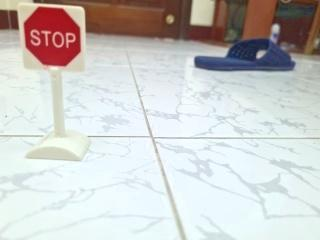stop: (11, 0, 93, 81)
